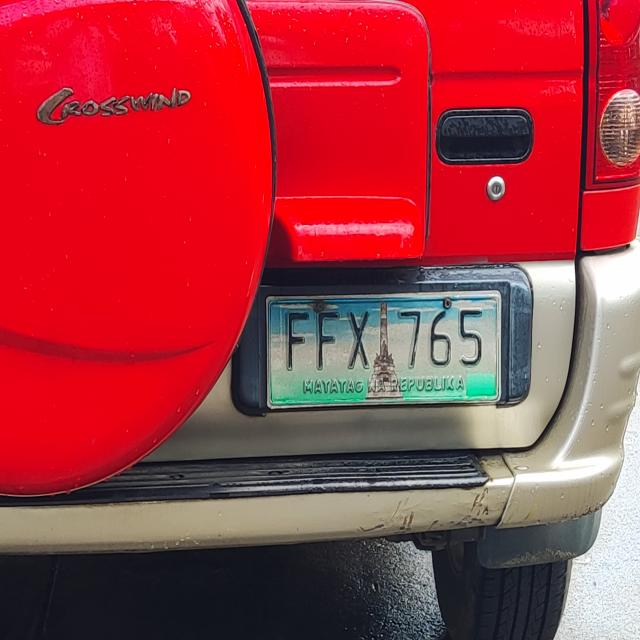plate: (259, 286, 509, 413)
